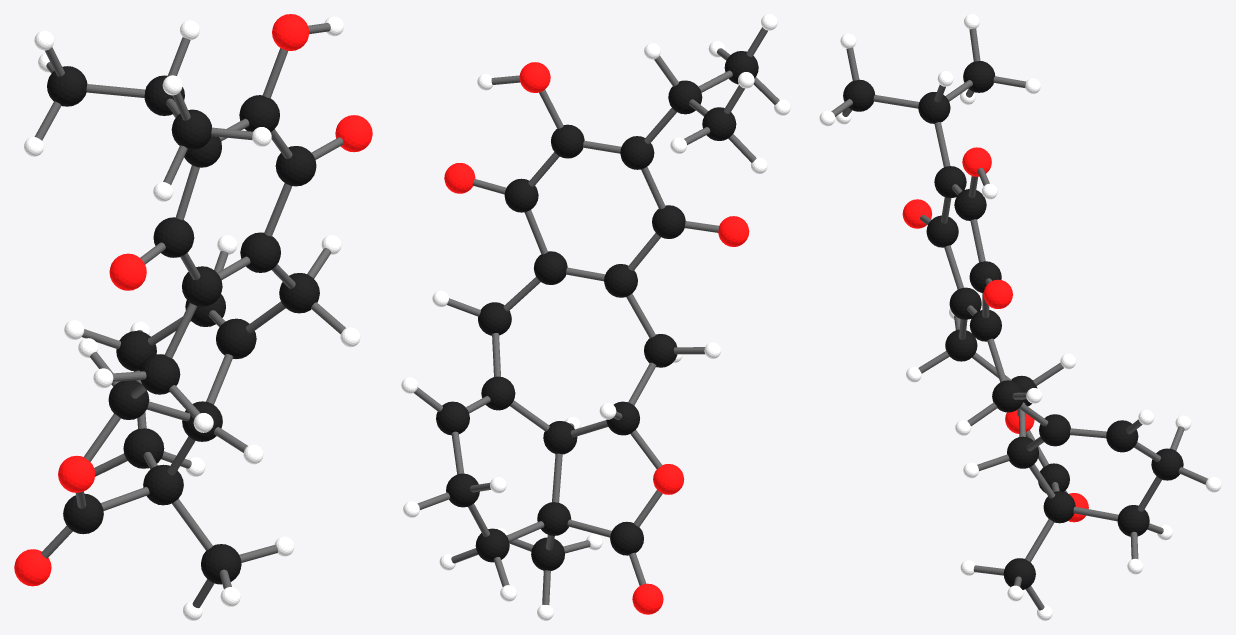
File: molecule.glb
3 renders of one model, left to right at view 1: azimuth 30°, elevation 25°; view 2: azimuth 150°, elevation 25°; view 3: azimuth 270°, elevation 25°, orthographic. The views are drawn at different scales.
Parts seen in each view (by area): view 1: geometry_8, geometry_23, geometry_0, geometry_10, geometry_20, geometry_6, geometry_9, geometry_2, geometry_15, geometry_21, geometry_13, geometry_16 (+18 smaller); view 2: geometry_8, geometry_13, geometry_4, geometry_9, geometry_23, geometry_3, geometry_6, geometry_19, geometry_21, geometry_10, geometry_20, geometry_15 (+13 smaller); view 3: geometry_15, geometry_20, geometry_17, geometry_23, geometry_0, geometry_2, geometry_18, geometry_19, geometry_10, geometry_4, geometry_8, geometry_1 (+10 smaller).
Boxes of the visible parts, bbox=[...] form: geometry_8: bbox=[240, 232, 280, 272]; geometry_23: bbox=[153, 217, 194, 257]; geometry_0: bbox=[47, 66, 87, 106]; geometry_10: bbox=[140, 354, 180, 394]; geometry_20: bbox=[216, 318, 256, 358]; geometry_6: bbox=[275, 146, 316, 186]; geometry_9: bbox=[182, 266, 222, 306]; geometry_2: bbox=[171, 109, 211, 149]; geometry_15: bbox=[143, 464, 183, 505]; geometry_21: bbox=[279, 273, 319, 313]; geometry_13: bbox=[63, 493, 103, 534]; geometry_16: bbox=[201, 544, 241, 584]; geometry_8: bbox=[533, 251, 567, 284]; geometry_13: bbox=[610, 521, 643, 555]; geometry_4: bbox=[551, 124, 584, 158]; geometry_9: bbox=[604, 264, 637, 297]; geometry_23: bbox=[652, 205, 685, 238]; geometry_3: bbox=[620, 136, 654, 169]; geometry_6: bbox=[504, 178, 538, 212]; geometry_19: bbox=[436, 401, 469, 435]; geometry_21: bbox=[478, 302, 511, 335]; geometry_10: bbox=[644, 334, 677, 367]; geometry_20: bbox=[481, 376, 515, 410]; geometry_15: bbox=[537, 502, 571, 535]; geometry_15: bbox=[1043, 491, 1075, 523]; geometry_20: bbox=[1039, 414, 1070, 446]; geometry_17: bbox=[1117, 505, 1149, 536]; geometry_23: bbox=[926, 215, 958, 247]; geometry_0: bbox=[963, 61, 995, 92]; geometry_2: bbox=[843, 79, 875, 111]; geometry_18: bbox=[1151, 448, 1183, 480]; geometry_19: bbox=[1106, 420, 1138, 452]; geometry_10: bbox=[945, 329, 977, 361]; geometry_4: bbox=[954, 189, 986, 220]; geometry_8: bbox=[969, 310, 1001, 341]; geometry_1: bbox=[918, 92, 950, 123].
Size of the model in its own units: 0.1462 by 0.257 by 0.1766.
